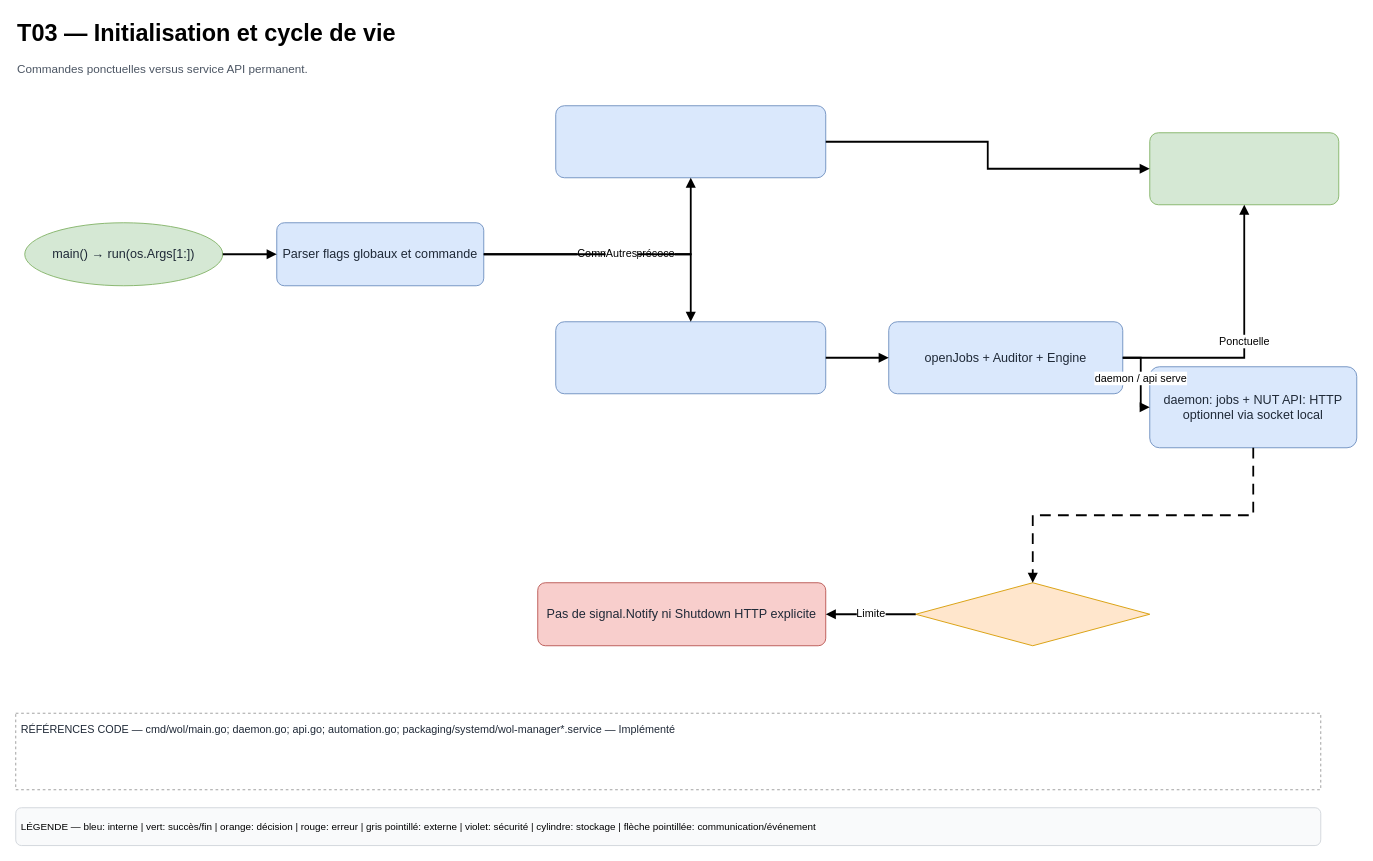
The diagram is 1373 pixels wide and 861 high, and some of its shapes have lost their labels. Each missing label, with the centre of its shape:
Arrêt par fin du processus/systemd: pixel 1032 614
Commande ponctuelle retour puis code 0/1/2: pixel 1244 168
LoadConfig strict + defaults + Validate: pixel 690 357
version/setup/update/completion/config edit: pixel 690 141
